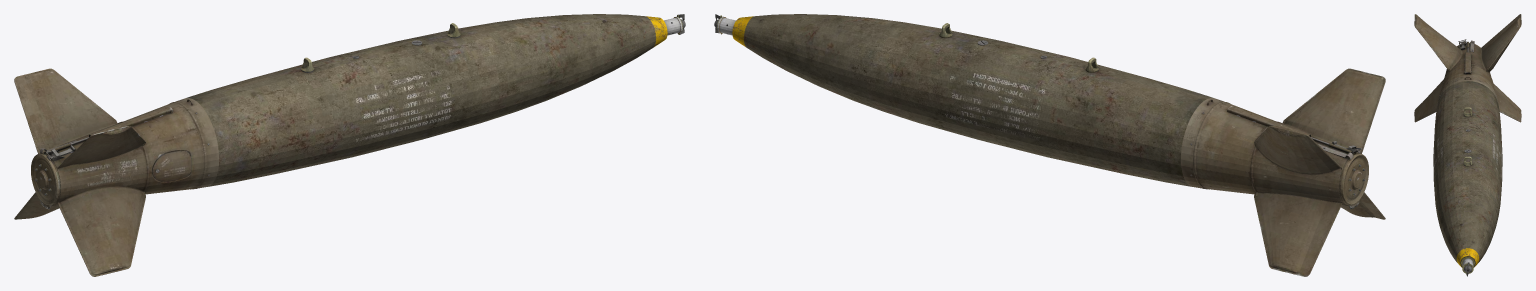
3 views of the same model, side by side, from view 1: azimuth 30°, elevation 25°; view 2: azimuth 150°, elevation 25°; view 3: azimuth 270°, elevation 25° (orthographic). The views are drawn at different scales.
Visible parts, largest first — view 1: us_2000lb_mk_84_air_na_0; view 2: us_2000lb_mk_84_air_na_0; view 3: us_2000lb_mk_84_air_na_0.
Part boxes in pixels (<box>): us_2000lb_mk_84_air_na_0: <box>14,14,685,276</box>; us_2000lb_mk_84_air_na_0: <box>714,14,1385,276</box>; us_2000lb_mk_84_air_na_0: <box>1414,14,1521,276</box>.
Size of the model in its own units: 332 by 70.9 by 70.9.
